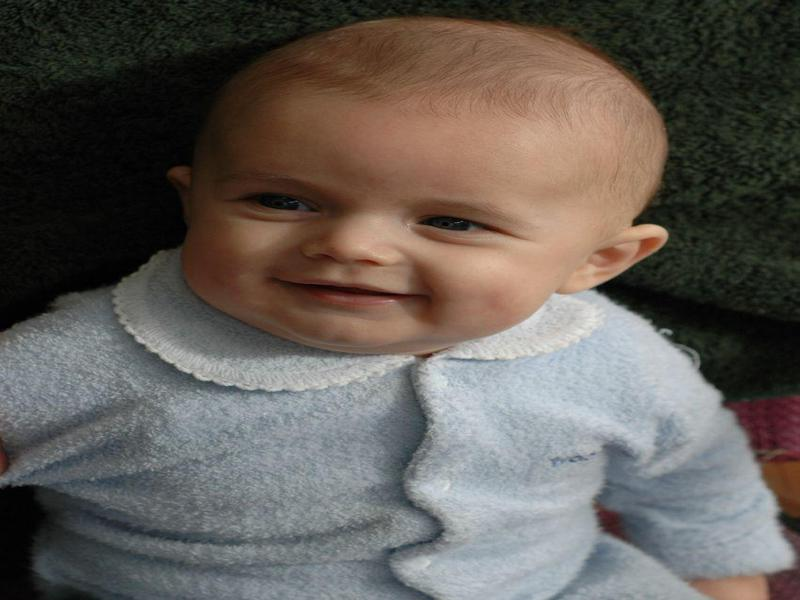person: (1, 14, 797, 599)
